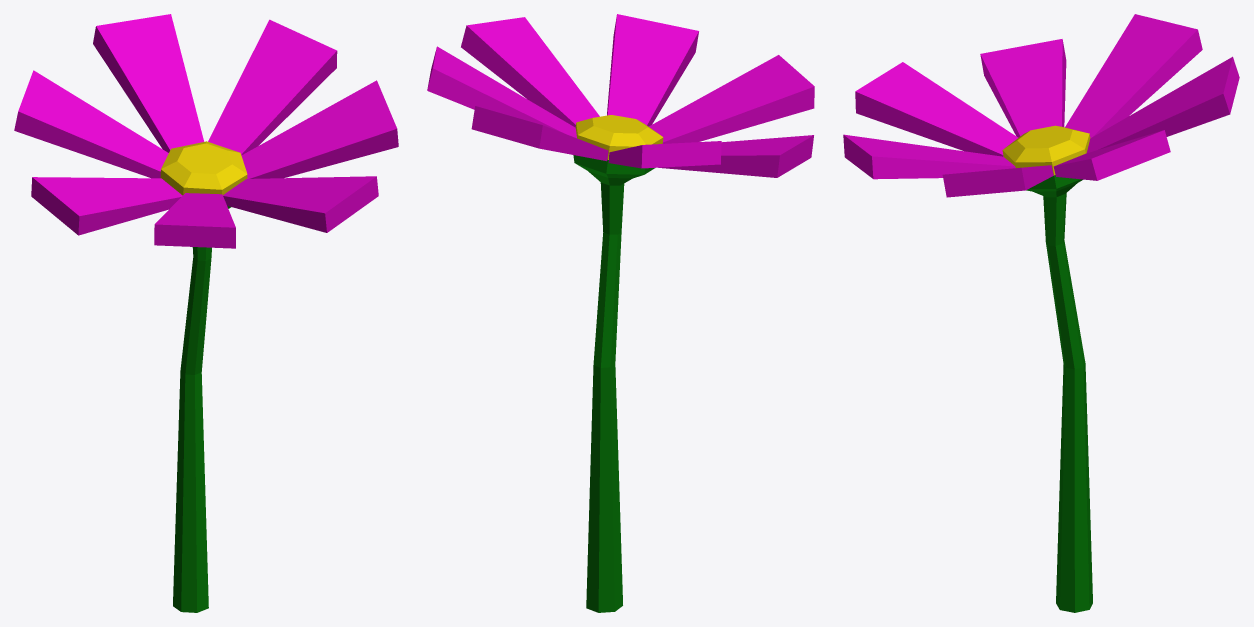
Rendered from FlowerPink.fbx.
3 renders of one model, left to right at view 1: azimuth 30°, elevation 25°; view 2: azimuth 150°, elevation 25°; view 3: azimuth 270°, elevation 25°, orthographic. The views are drawn at different scales.
Parts seen in each view (by area): view 1: flower; view 2: flower; view 3: flower.
Part boxes in pixels (x1=…): flower: x1=14, y1=14, x2=398, y2=612; flower: x1=427, y1=14, x2=814, y2=612; flower: x1=843, y1=14, x2=1239, y2=612.
Bounding box in the file's own units: 17.91 × 27.5 × 18.32.
